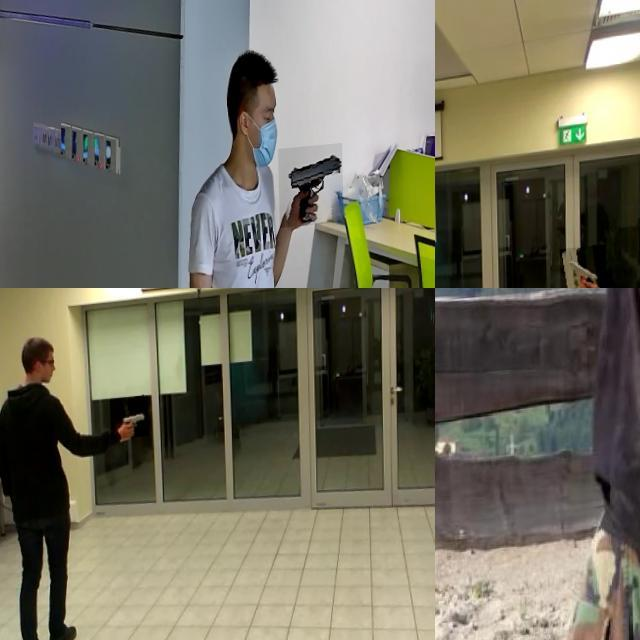gun-knife-thesis - v11 Yolov5 augmented: (277, 151, 342, 235), (109, 399, 148, 443), (558, 254, 605, 288)
